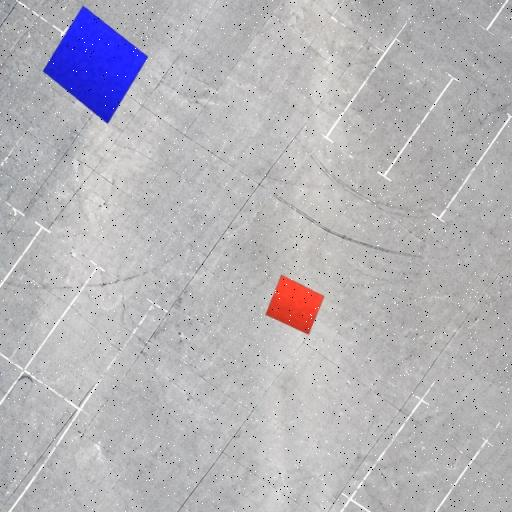BLUE_SQUARE: (42, 5, 149, 125)
RED_SQUARE: (264, 274, 326, 335)
